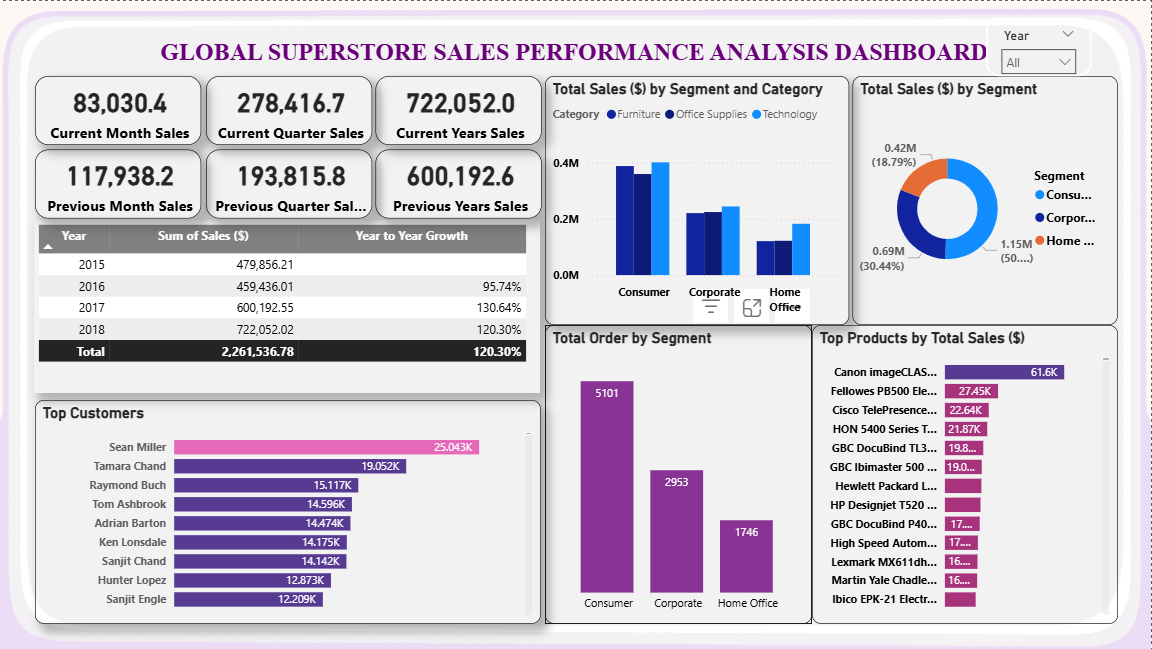

The dashboard page shown, as its layout file describes it:
{"tool":"powerbi","page":{"name":"Customer's","canvas":[1280,720],"ordinal":2},"visuals":[{"type":"image","box":[0,0,1280,720],"z":0},{"type":"card","title":"TOTAL REVENUE","fields":{"Values":["Date Table.Current MTD"]},"box":[40.7,82.6,184.8,76.4],"z":1000,"group":"g1"},{"type":"barChart","title":"Top Customers","fields":{"Category":["Train.Customer Name"],"Y":["Sum(Train.Sales ($))"]},"box":[40,443.3,561.7,248.3],"z":1000},{"type":"barChart","title":"Top Products by Total Sales ($)","fields":{"Category":["Train.Product Name"],"Y":["Sum(Train.Sales ($))"]},"box":[903.3,360,340,331.7],"z":2000},{"type":"tableEx","fields":{"Values":["Date Table.Year","Sum(Train.Sales ($))","Date Table.Year to Year Growth"]},"box":[39,244,562.8,191.9],"z":3000},{"type":"textbox","box":[125.2,35.8,1028,47.2],"z":4000},{"type":"donutChart","fields":{"Y":["Sum(Train.Sales ($))"],"Category":["Train.Segment"]},"box":[948.3,83,294.4,276.5],"z":5000},{"type":"columnChart","fields":{"Category":["Train.Segment"],"Y":["Train.Total Order"]},"box":[606.7,360,296.7,331.7],"z":6000},{"type":"card","title":"TOTAL REVENUE","fields":{"Values":["Date Table.Current Quarter Sales"]},"box":[230.5,82.6,184.8,76.4],"z":7000,"group":"g1"},{"type":"clusteredColumnChart","fields":{"Category":["Train.Segment"],"Series":["Train.Category"],"Y":["Sum(Train.Sales ($))"]},"box":[606.7,83,338.3,276.5],"z":7000},{"type":"group","id":"g1","title":"Group 1","box":[40.7,82.6,562.8,157.8],"z":8000},{"type":"card","title":"TOTAL REVENUE","fields":{"Values":["Date Table.Current Years Sales"]},"box":[418.7,82.6,184.8,76.4],"z":8000,"group":"g1"},{"type":"slicer","fields":{"Values":["Date Table.Year"]},"box":[1096.3,17.9,117.1,65.1],"z":9000},{"type":"card","title":"TOTAL REVENUE","fields":{"Values":["Date Table.Previous Month Sales"]},"box":[40.7,164,184.8,76.4],"z":9000,"group":"g1"},{"type":"card","title":"TOTAL REVENUE","fields":{"Values":["Date Table.Previous Quarter Sales"]},"box":[230.5,164,184.8,76.4],"z":10000,"group":"g1"},{"type":"card","title":"TOTAL REVENUE","fields":{"Values":["Date Table.Previous Years Sales"]},"box":[418.7,164,184.8,76.4],"z":11000,"group":"g1"}]}

Visuals, with their boxes in screenshot pixels (x1, y1, x2, y2), scaled from the page's 1280x720 canvas onto the 1152x649 screenshot:
image: <box>0,0,1151,648</box>
"TOTAL REVENUE" card: <box>37,74,203,143</box>
"Top Customers" barChart: <box>36,400,542,623</box>
"Top Products by Total Sales ($)" barChart: <box>813,324,1119,623</box>
tableEx - Date Table.Year x Sum(Train.Sales ($)): <box>35,220,542,393</box>
textbox: <box>113,32,1038,75</box>
donutChart - Sum(Train.Sales ($)) x Train.Segment: <box>853,75,1118,324</box>
columnChart - Train.Segment x Train.Total Order: <box>546,324,813,623</box>
"TOTAL REVENUE" card: <box>207,74,374,143</box>
clusteredColumnChart - Train.Segment x Train.Category: <box>546,75,850,324</box>
"Group 1" group: <box>37,74,543,217</box>
"TOTAL REVENUE" card: <box>377,74,543,143</box>
slicer - Date Table.Year: <box>987,16,1092,75</box>
"TOTAL REVENUE" card: <box>37,148,203,217</box>
"TOTAL REVENUE" card: <box>207,148,374,217</box>
"TOTAL REVENUE" card: <box>377,148,543,217</box>
